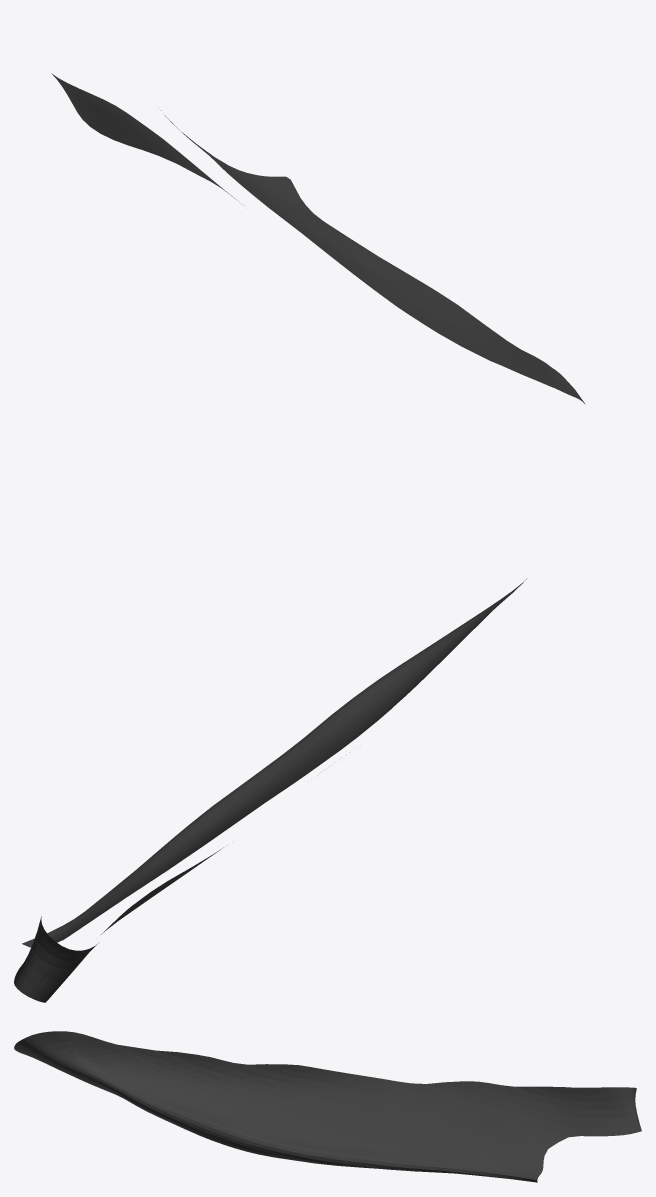
Rendered from Scapula_spine.glb.
The picture shows the model from 3 angles, top to bottom: view 1: azimuth 30°, elevation 25°; view 2: azimuth 150°, elevation 25°; view 3: azimuth 270°, elevation 25°; orthographic projection. The views are drawn at different scales.
Parts seen in each view (by area): view 1: Scapula_spine; view 2: Scapula_spine; view 3: Scapula_spine.
Part boxes in pixels (x1,y1,x2,y2): Scapula_spine: [51, 73, 585, 404]; Scapula_spine: [14, 579, 526, 1002]; Scapula_spine: [14, 1031, 641, 1182].
Bounding box in the file's own units: 0.4367 × 0.3644 × 1.88.
1 material, 1 textured.
